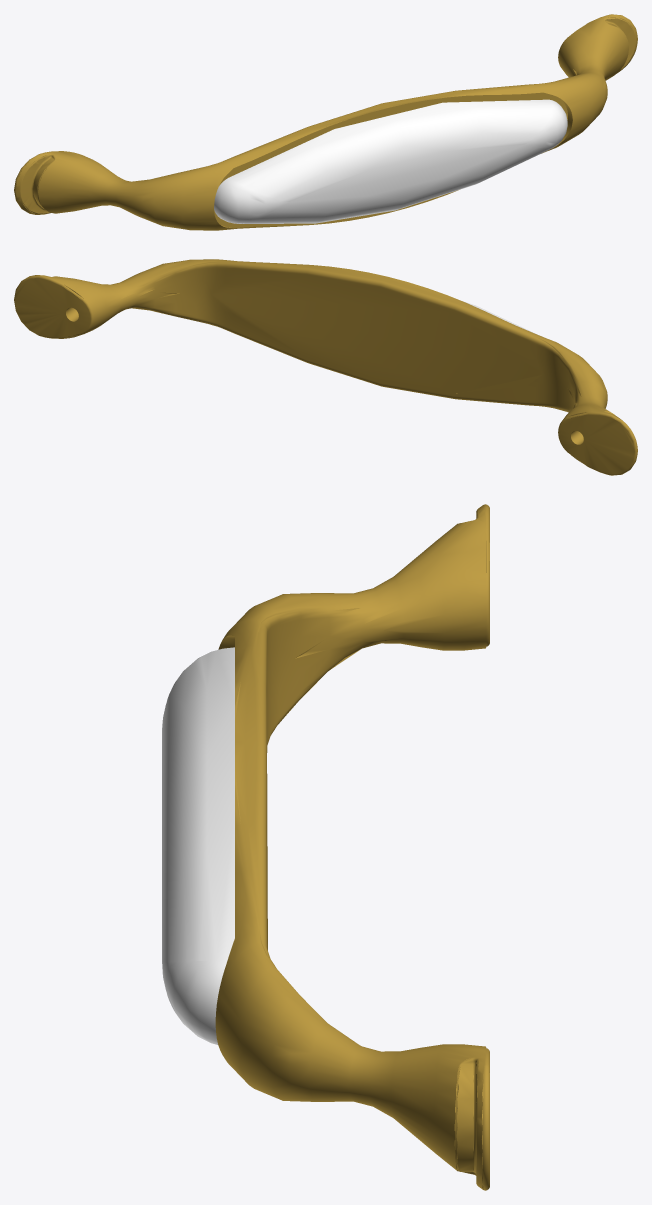
Rendered from furniture_handle_21.glb.
3 renders of one model, top to bottom at view 1: azimuth 30°, elevation 25°; view 2: azimuth 150°, elevation 25°; view 3: azimuth 270°, elevation 25°, orthographic. The views are drawn at different scales.
Visible parts, largest first — view 1: poignee21; view 2: poignee21; view 3: poignee21.
Boxes of the visible parts, bbox=[...] form: poignee21: bbox=[14, 14, 637, 230]; poignee21: bbox=[14, 259, 637, 475]; poignee21: bbox=[162, 504, 489, 1190].
Bounding box in the file's own units: 0.158 × 0.0255 × 0.036.
